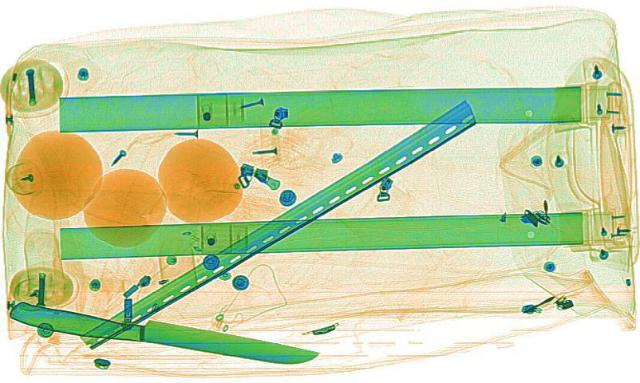Knife: (1, 295, 321, 371)
